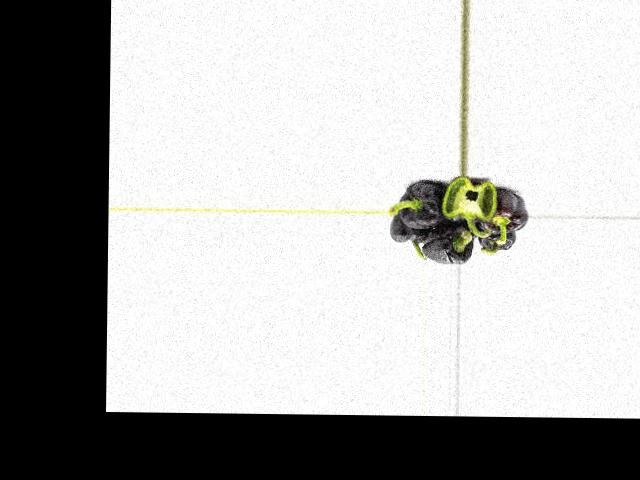bell_pepper: (470, 191, 527, 234)
